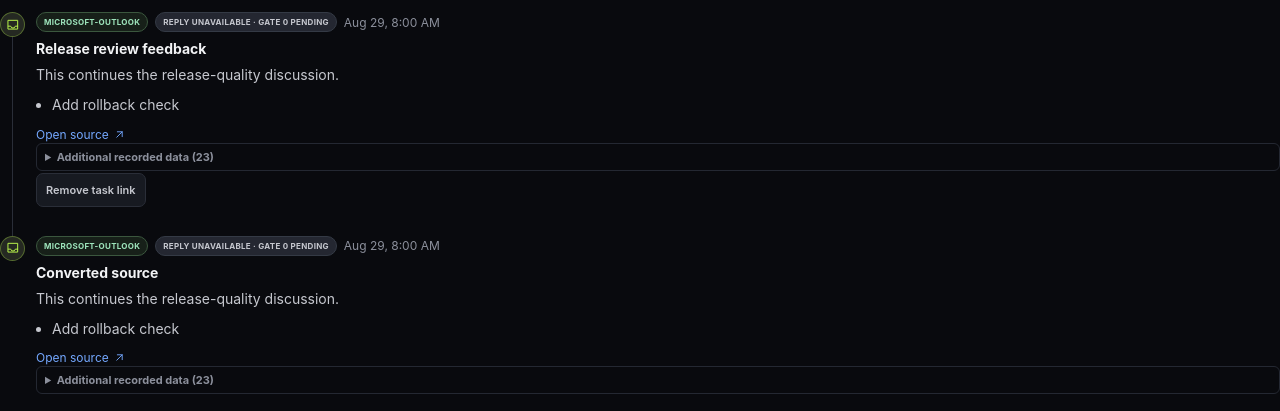
Test case: a revision conflict is a closed sentence, no removal and no retry control
The width and height of the screenshot is (1280, 411).
Click the button "Remove task link": (91,190) [36,173,146,207]
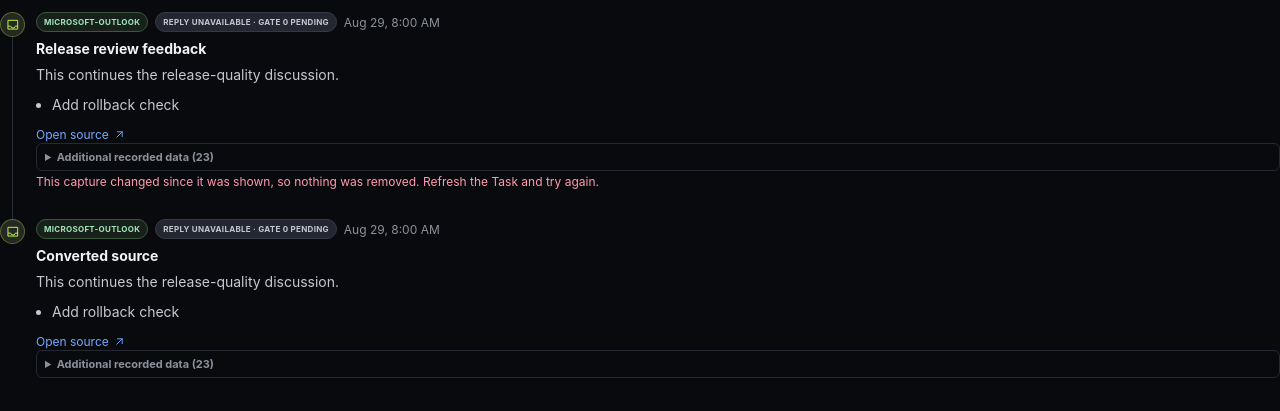
Check: the message does not show "capture revision does not match", box [36,173,599,190]
Check: the message shows "This capture changed since it was shown, so nothing was removed. Refresh the Task and try again.", box [36,174,599,189]
Check: the button "Remove task link" is gone
